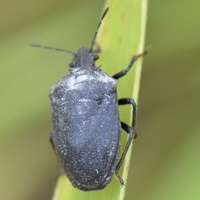insect: (32, 0, 146, 199)
